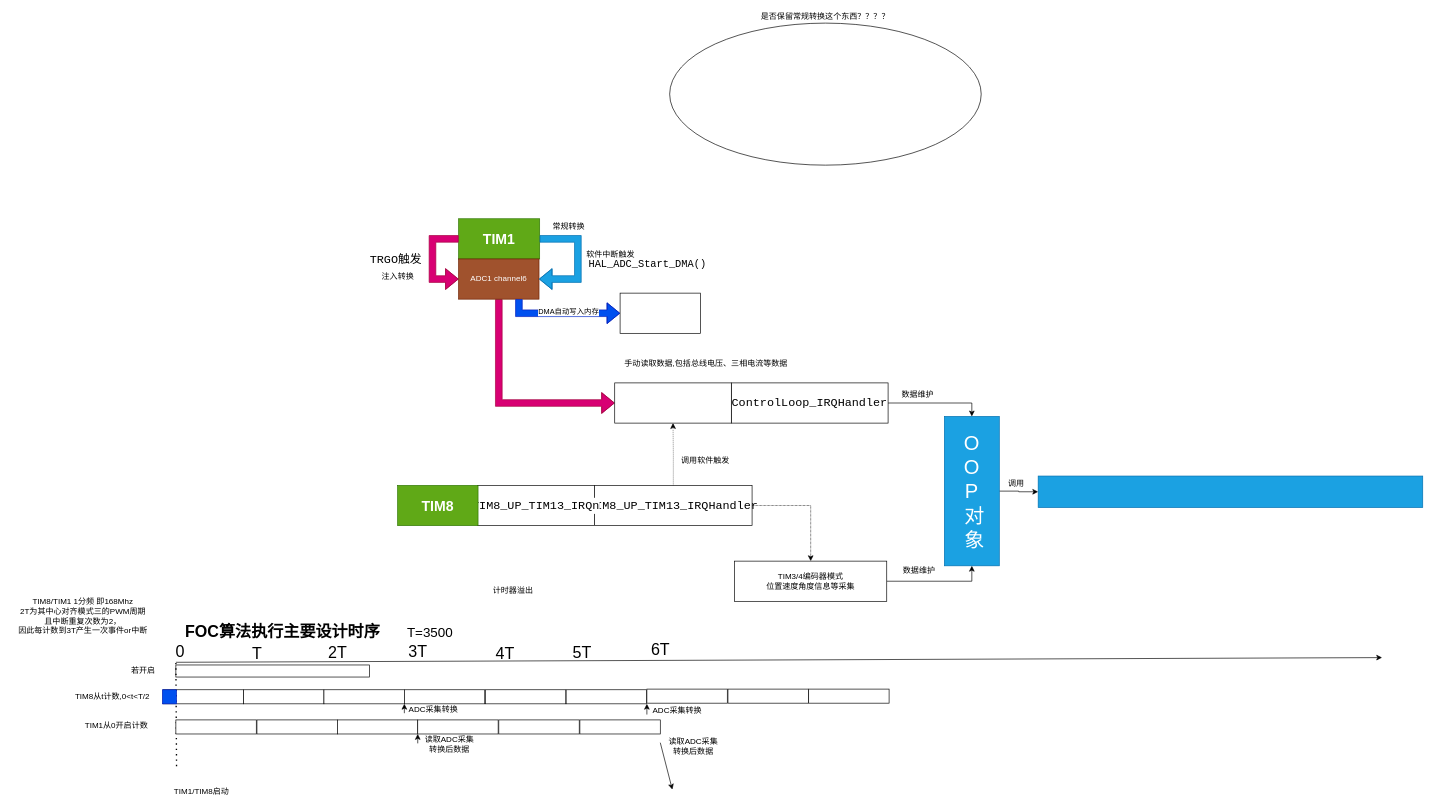
Some shapes in this 1434 by 811 pixel diagram are drawn without their labels. Each missing label, with the centre of its shape:
"ControlLoop_IRQn" belongs at point (672, 402).
"DMA2 stream0" belongs at point (659, 312).
"FOC核心算法维护输出PWM" belongs at point (1230, 491).
"PWM NULL" belongs at point (272, 670).
